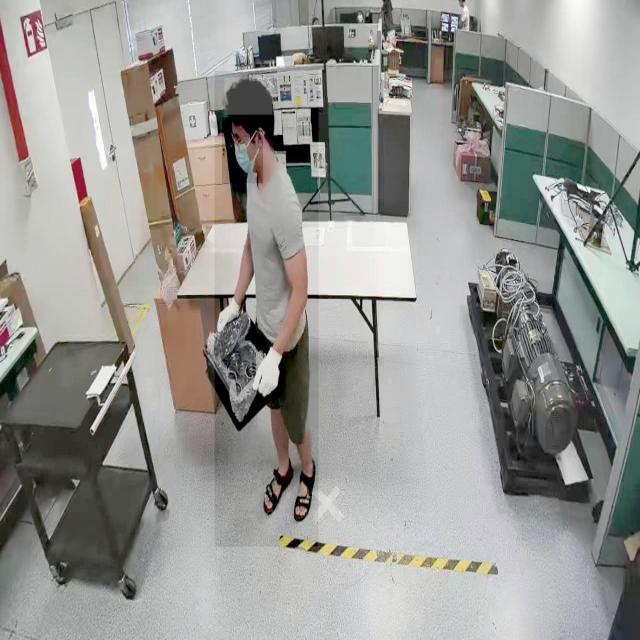face_mask: (222, 117, 263, 183)
hand_glove: (248, 348, 286, 401)
head_nohelmet: (225, 78, 273, 116)
person: (215, 71, 319, 548), (459, 1, 473, 32)
